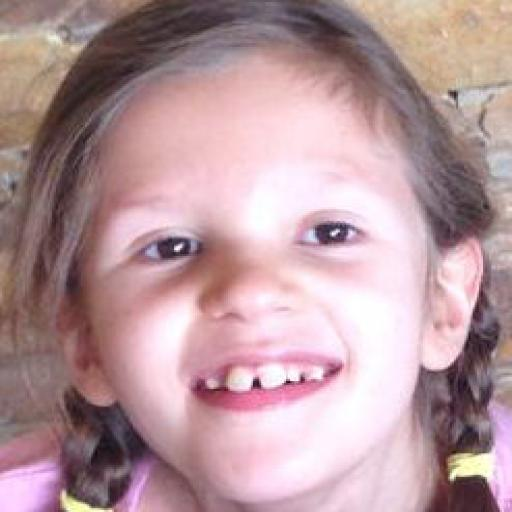Autism: (7, 6, 512, 505)
